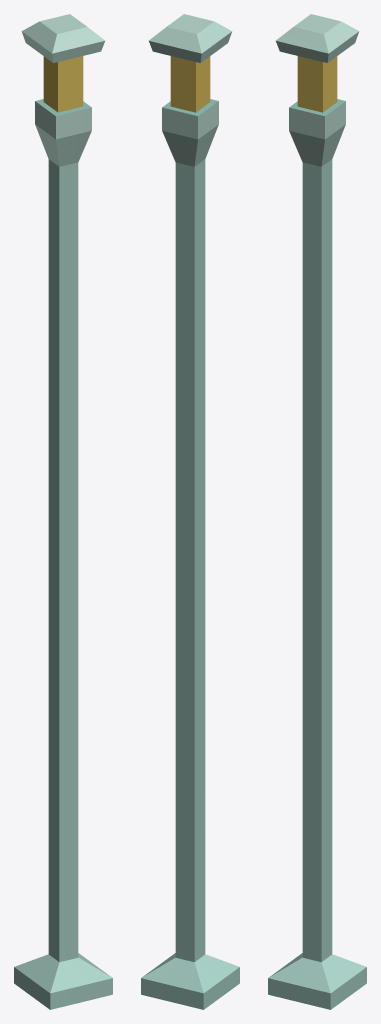
The model's file is StreetLight.fbx.
3 renders of one model, left to right at view 1: azimuth 30°, elevation 25°; view 2: azimuth 150°, elevation 25°; view 3: azimuth 330°, elevation 25°, orthographic.
Parts seen in each view (by area): view 1: Cube.017; view 2: Cube.017; view 3: Cube.017.
Part boxes in pixels (x1,y1,x2,y2): Cube.017: (14, 14, 112, 1009); Cube.017: (141, 14, 239, 1009); Cube.017: (268, 14, 366, 1009).
Size of the model in its own units: 0.198 by 2.91 by 0.198.
Materials: 1 (1 with a texture image).
